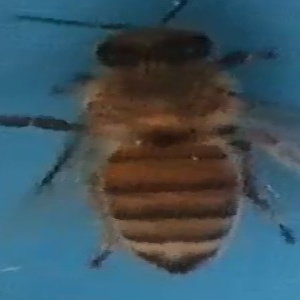bee: (7, 11, 297, 281)
